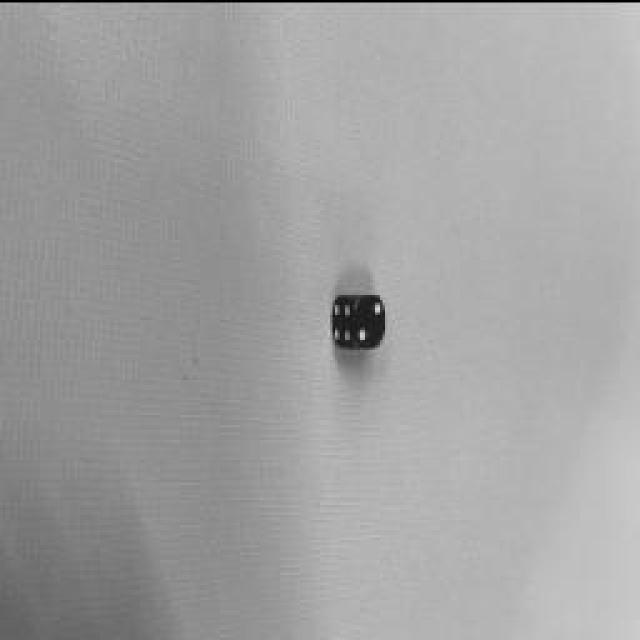dice_2: (354, 292, 386, 346)
